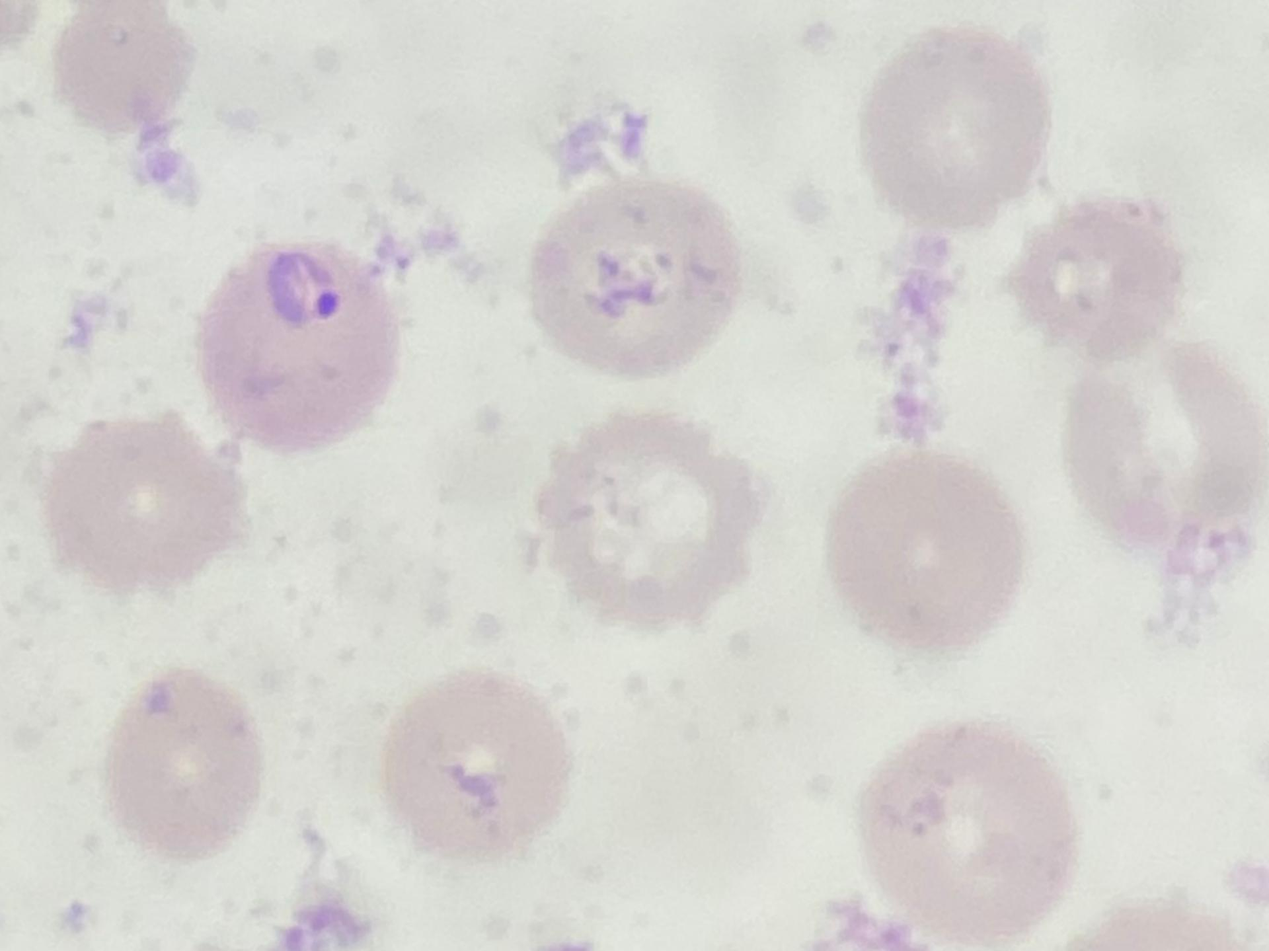Infected: (200, 247, 404, 450)
Uninfected: (861, 721, 1080, 951), (542, 404, 764, 628), (538, 177, 743, 374), (833, 455, 1028, 656), (861, 32, 1055, 226), (383, 673, 574, 859), (93, 662, 267, 865), (44, 426, 247, 584), (1013, 192, 1188, 361), (44, 0, 194, 140)
